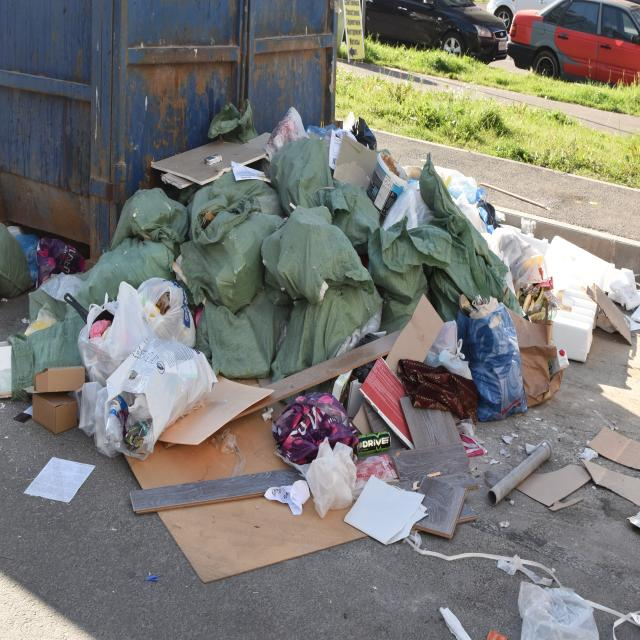lixo domiciliar: (85, 324, 231, 468), (183, 165, 275, 319), (270, 283, 392, 383), (261, 203, 375, 310), (128, 465, 328, 519), (195, 294, 300, 382), (0, 312, 94, 404), (461, 299, 525, 419), (75, 296, 156, 386), (371, 213, 432, 325), (360, 350, 426, 453), (76, 238, 178, 302), (536, 229, 626, 301), (272, 392, 360, 462), (535, 281, 610, 362), (350, 469, 425, 549), (397, 354, 481, 422), (268, 136, 335, 218), (481, 441, 558, 511), (298, 446, 370, 520), (112, 185, 191, 252), (515, 583, 604, 640), (482, 218, 547, 296), (133, 272, 198, 347), (507, 254, 566, 332), (511, 342, 574, 412), (412, 472, 472, 544), (327, 119, 384, 192), (29, 453, 98, 508), (35, 366, 87, 435), (32, 230, 88, 287), (586, 418, 640, 473), (371, 142, 411, 215), (0, 215, 31, 303), (593, 282, 635, 345), (442, 163, 492, 213), (212, 99, 256, 144), (14, 228, 46, 288), (264, 478, 312, 517), (8, 334, 34, 396), (439, 603, 472, 640), (356, 427, 392, 455), (203, 153, 224, 168), (486, 627, 508, 640), (146, 571, 162, 585)
